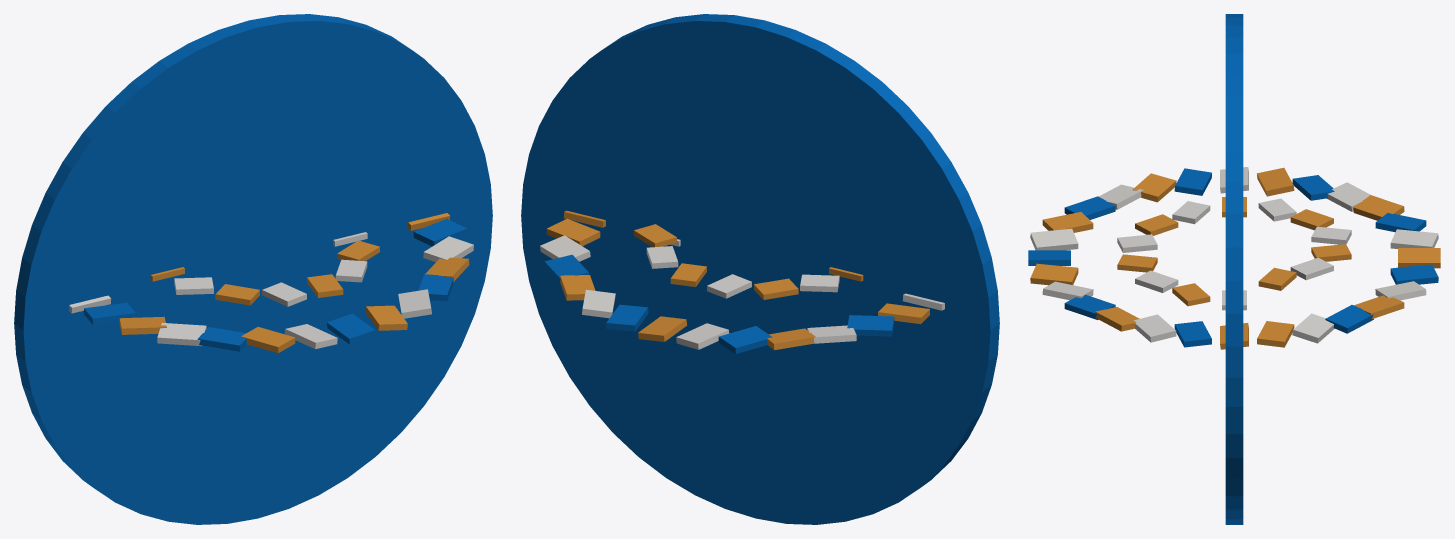
Rendered from nacho_chip_ring.glb.
3 views of the same model, side by side, from view 1: azimuth 30°, elevation 25°; view 2: azimuth 150°, elevation 25°; view 3: azimuth 270°, elevation 25° (orthographic). The views are drawn at different scales.
Visible parts, largest first — view 1: world; view 2: world; view 3: world.
Boxes of the visible parts, left/top/right/bottom form: world: left=14, top=14, right=492, bottom=524; world: left=521, top=14, right=999, bottom=524; world: left=1028, top=14, right=1440, bottom=524.
Size of the model in its own units: 1.44 by 1.44 by 1.16.
